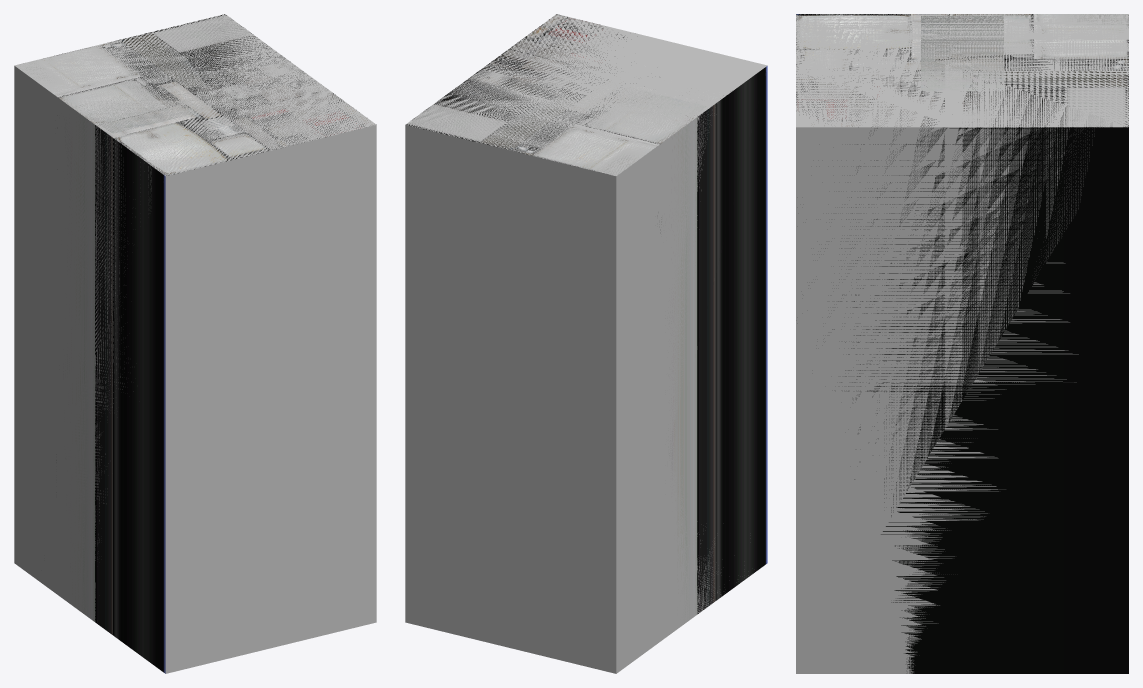
File: refridgerator.DAE
3 views of the same model, side by side, from view 1: azimuth 30°, elevation 25°; view 2: azimuth 150°, elevation 25°; view 3: azimuth 270°, elevation 25° (orthographic). The views are drawn at different scales.
Visible parts, largest first — view 1: bounds, colbox-1, refridgerator100; view 2: bounds, colbox-1, refridgerator100; view 3: bounds, colbox-1, refridgerator100.
Boxes of the visible parts, x1=… form: bounds: x1=14, y1=14, x2=376, y2=673; colbox-1: x1=16, y1=14, x2=376, y2=673; refridgerator100: x1=76, y1=74, x2=251, y2=133; bounds: x1=405, y1=14, x2=767, y2=673; colbox-1: x1=406, y1=14, x2=767, y2=623; refridgerator100: x1=537, y1=88, x2=706, y2=132; bounds: x1=796, y1=14, x2=1128, y2=673; colbox-1: x1=796, y1=14, x2=1128, y2=673; refridgerator100: x1=921, y1=16, x2=1003, y2=91.
Size of the model in its own units: 91.54 by 114 by 206.
